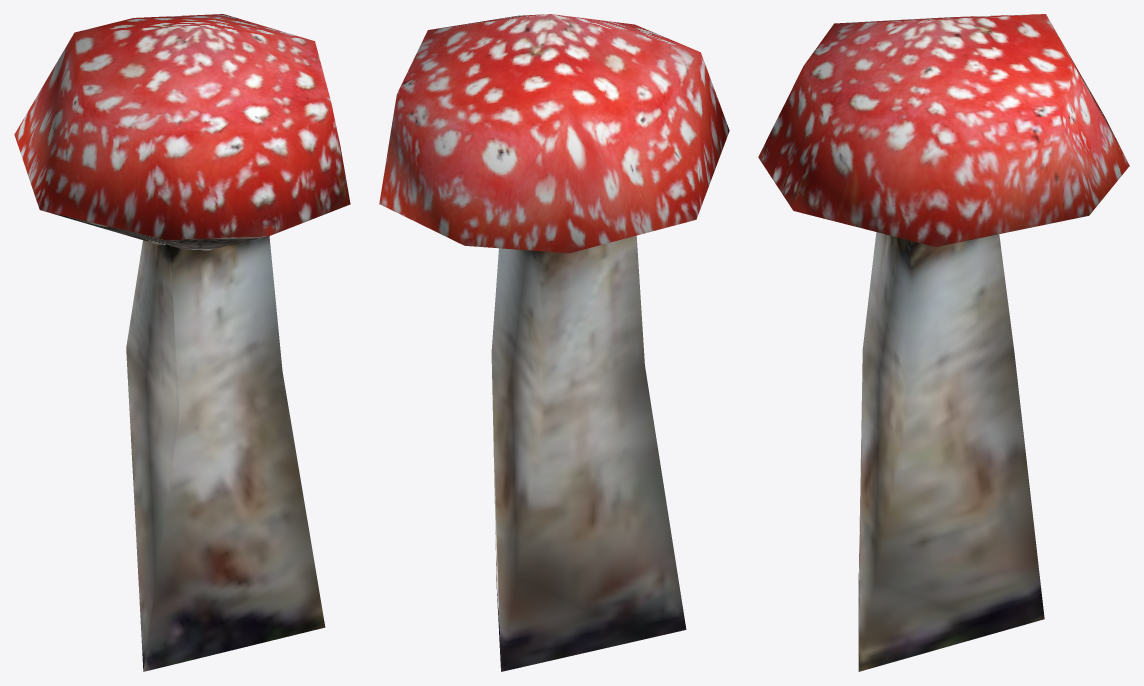
File: Mushroom_04_b.fbx
3 views of the same model, side by side, from view 1: azimuth 30°, elevation 25°; view 2: azimuth 150°, elevation 25°; view 3: azimuth 270°, elevation 25° (orthographic). The views are drawn at different scales.
Parts seen in each view (by area): view 1: mushroom_04_b; view 2: mushroom_04_b; view 3: mushroom_04_b.
Boxes of the visible parts, x1,y1,x2,y2 form: mushroom_04_b: (14,14,350,671); mushroom_04_b: (379,14,729,671); mushroom_04_b: (758,14,1129,671).
Size of the model in its own units: 0.1732 by 0.3375 by 0.1874.
